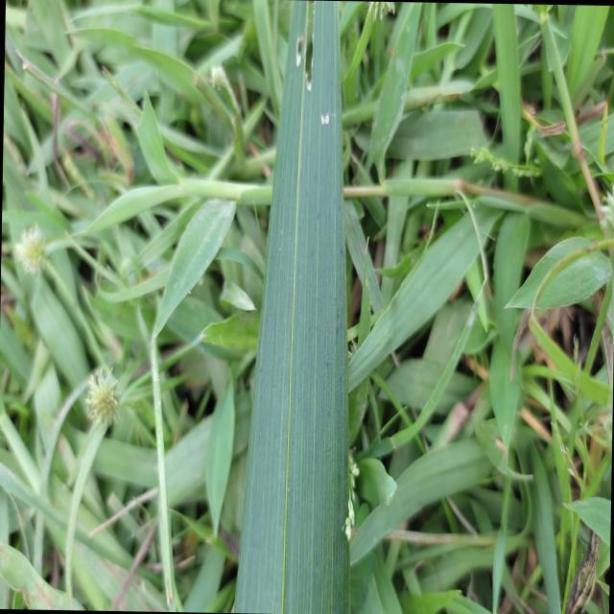Boron: (235, 0, 368, 614)
